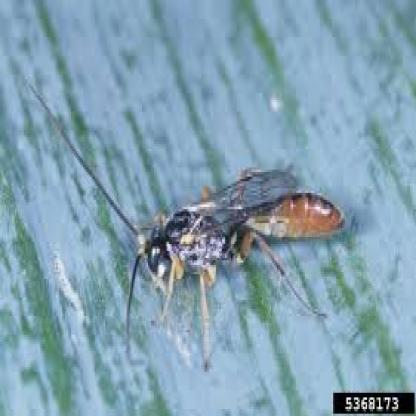sawfly: (59, 126, 350, 356)
